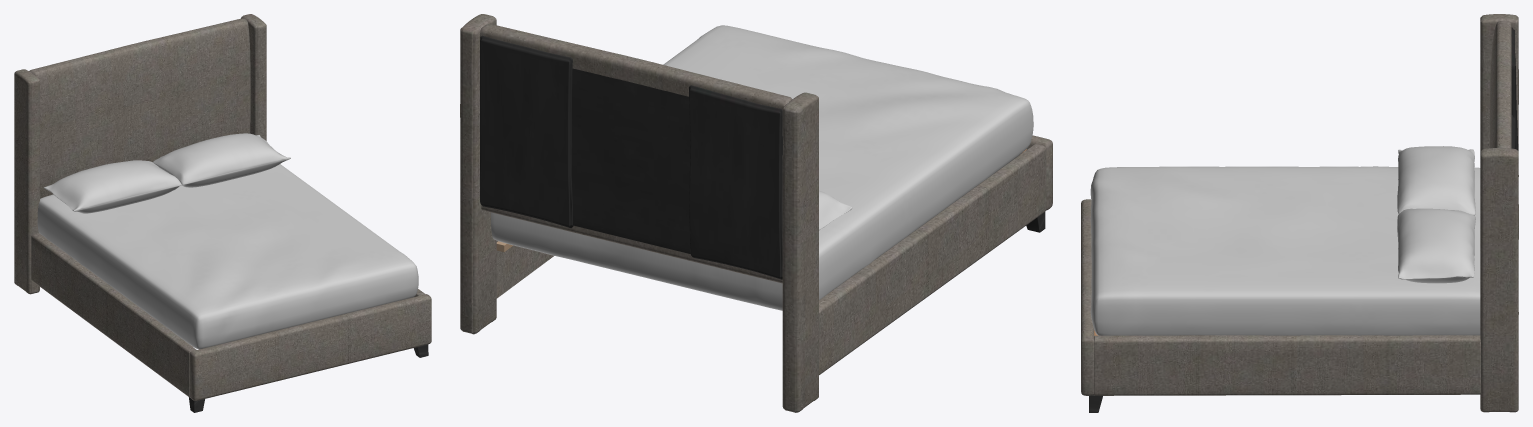
3 views of the same model, side by side, from view 1: azimuth 30°, elevation 25°; view 2: azimuth 150°, elevation 25°; view 3: azimuth 270°, elevation 25° (orthographic). The views are drawn at different scales.
Visible parts, largest first — view 1: RootNode; view 2: RootNode; view 3: RootNode.
Boxes of the visible parts, <box> form: RootNode: <box>14,14,431,412</box>; RootNode: <box>460,14,1052,412</box>; RootNode: <box>1081,14,1518,412</box>.
Size of the model in its own units: 1.71 by 1.48 by 2.24.
Materials: 1 (1 with a texture image).
